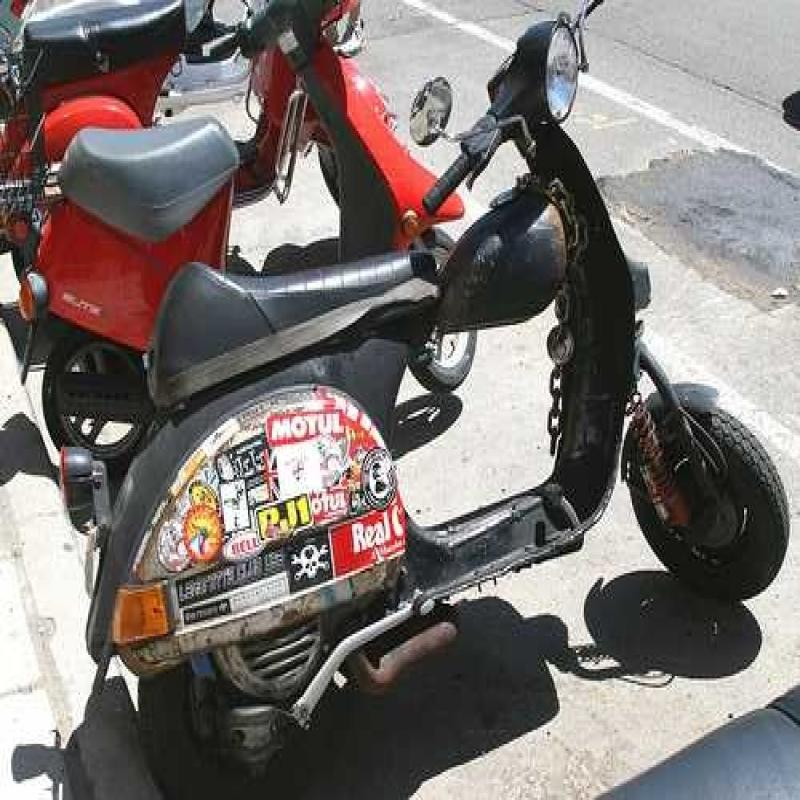bike: (62, 20, 800, 746), (21, 0, 486, 365)
